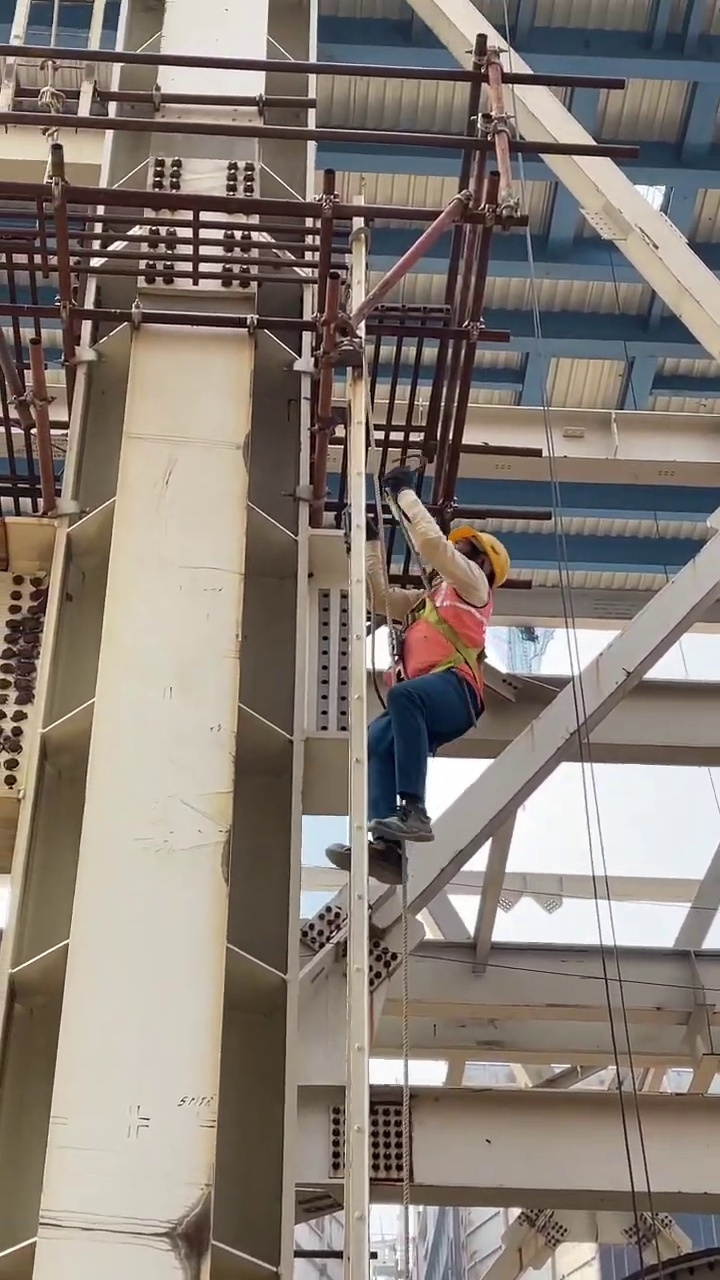Helmet: (448, 526, 512, 586)
Person: (325, 524, 511, 887)
Safety_Harness: (389, 573, 495, 729)
Safety_shoes: (326, 840, 406, 886), (367, 801, 435, 843)
